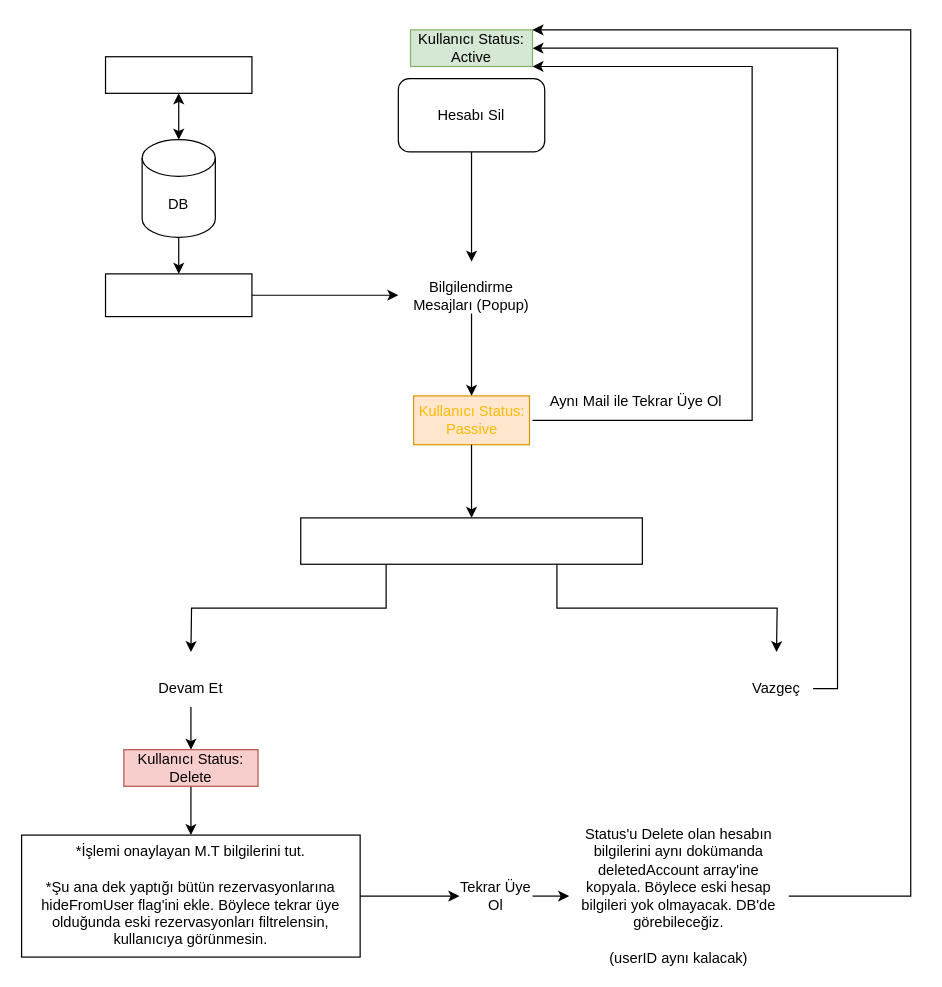
The diagram is 942 pixels wide and 987 high, and some of its shapes have lost their labels. Each missing label, with the box of its shape:
Admin: (104, 56, 252, 93)
İptal Sebepleri: (104, 273, 252, 317)
Mail (Müşteri Deneyimi): (300, 517, 642, 564)
